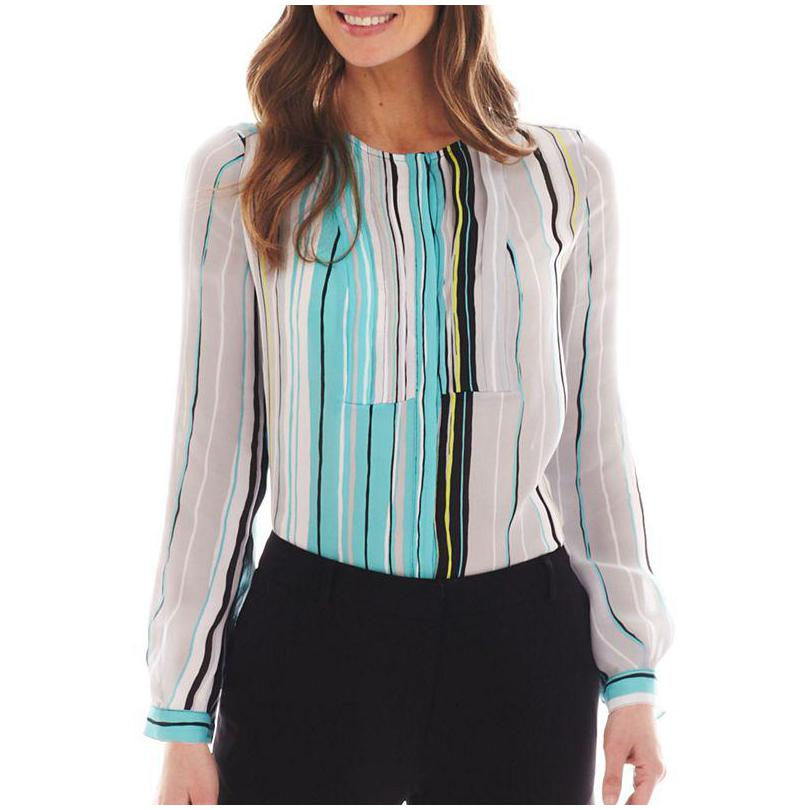C_blouse: (137, 102, 690, 738)
